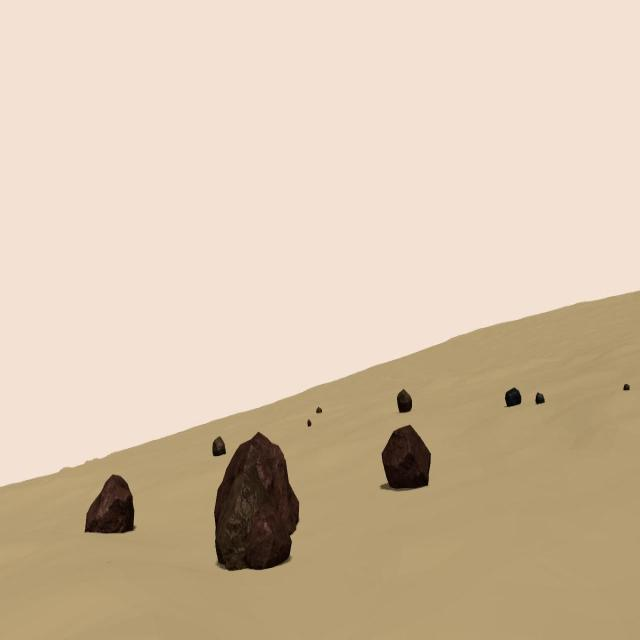rock: (214, 430, 299, 571), (382, 423, 431, 489), (84, 473, 134, 534), (397, 389, 412, 413), (505, 387, 522, 408), (212, 434, 225, 457), (535, 391, 545, 405), (316, 404, 322, 414), (623, 382, 629, 391), (306, 420, 312, 427)
